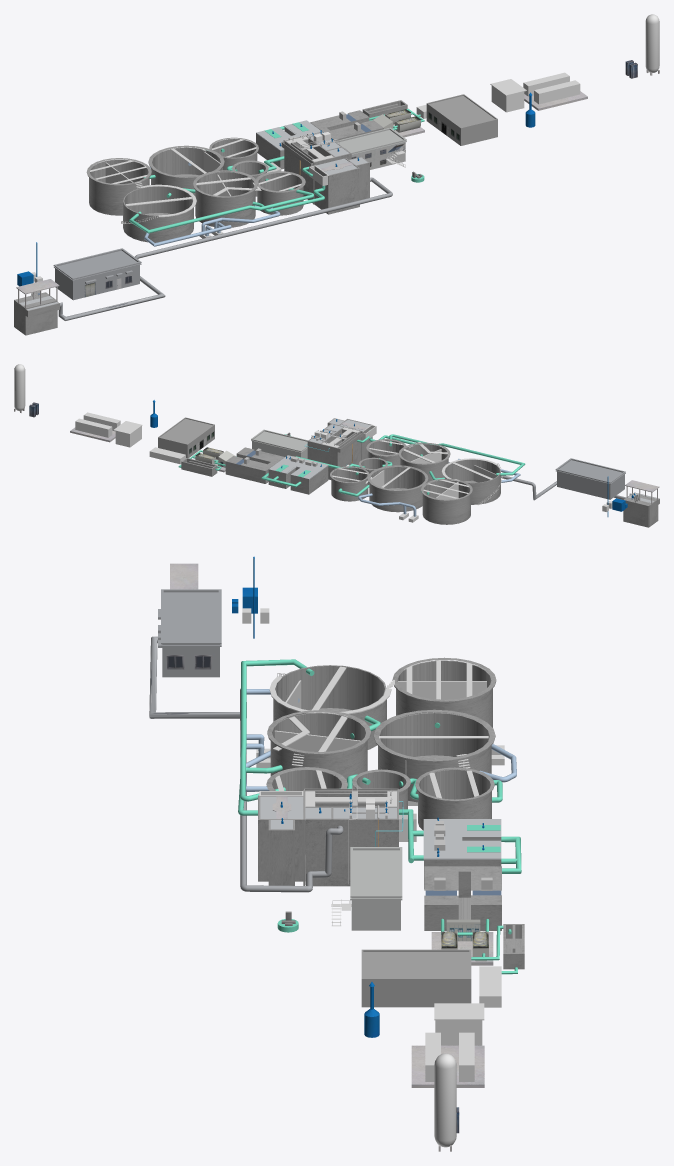
3 renders of one model, top to bottom at view 1: azimuth 30°, elevation 25°; view 2: azimuth 150°, elevation 25°; view 3: azimuth 270°, elevation 25°, orthographic. The views are drawn at different scales.
Visible parts, largest first — view 1: 空白.3-材质, 搅拌.2-材质, 配电室.1, 污泥间, 扫描, 空白.3-材质.001, 配电室, 立方体.033, 在线监测间, 扫描.3, 圆柱.002, 立方体.035 (+4 smaller); view 2: 空白.3-材质, 配电室.1, 搅拌.2-材质, 空白.3-材质.001, 污泥间, 立方体.033, 配电室, 立方体.029, 在线监测间, 立方体.083, 扫描.3, 圆柱.002 (+9 smaller); view 3: 空白.3-材质, 搅拌.2-材质, 污泥间, 配电室.1, 空白.3-材质.001, 配电室, 立方体.033, 扫描, 圆柱.002, 搅拌.2-材质.001, 在线监测间, 立方体.034 (+5 smaller).
Part boxes in pixels (bbox=[...]): 空白.3-材质: bbox=[86, 137, 305, 242]; 搅拌.2-材质: bbox=[281, 132, 369, 214]; 配电室.1: bbox=[53, 248, 141, 300]; 污泥间: bbox=[426, 94, 497, 145]; 扫描: bbox=[58, 148, 392, 320]; 空白.3-材质.001: bbox=[90, 139, 301, 206]; 配电室: bbox=[336, 127, 406, 169]; 立方体.033: bbox=[310, 110, 383, 140]; 在线监测间: bbox=[490, 79, 526, 112]; 扫描.3: bbox=[129, 188, 314, 233]; 圆柱.002: bbox=[645, 14, 659, 72]; 立方体.035: bbox=[534, 80, 580, 104]; 空白.3-材质: bbox=[330, 439, 500, 524]; 配电室.1: bbox=[555, 458, 625, 499]; 搅拌.2-材质: bbox=[307, 418, 372, 479]; 空白.3-材质.001: bbox=[332, 440, 497, 500]; 污泥间: bbox=[158, 417, 214, 457]; 立方体.033: bbox=[225, 447, 284, 483]; 配电室: bbox=[251, 429, 307, 458]; 立方体.029: bbox=[268, 466, 328, 494]; 在线监测间: bbox=[113, 421, 142, 447]; 立方体.083: bbox=[623, 499, 648, 527]; 扫描.3: bbox=[389, 434, 525, 475]; 圆柱.002: bbox=[14, 364, 25, 411]; 空白.3-材质: bbox=[266, 657, 496, 830]; 搅拌.2-材质: bbox=[258, 788, 398, 886]; 污泥间: bbox=[361, 949, 471, 1007]; 配电室.1: bbox=[158, 589, 221, 677]; 空白.3-材质.001: bbox=[272, 660, 488, 805]; 配电室: bbox=[350, 847, 402, 930]; 立方体.033: bbox=[424, 866, 501, 930]; 扫描: bbox=[149, 636, 343, 892]; 圆柱.002: bbox=[434, 1053, 456, 1147]; 搅拌.2-材质.001: bbox=[260, 796, 396, 829]; 在线监测间: bbox=[434, 1003, 484, 1045]; 立方体.034: bbox=[411, 1045, 484, 1087].
Bounding box in the file's own units: 786 × 87.75 × 222.
29 materials, 11 textured.
